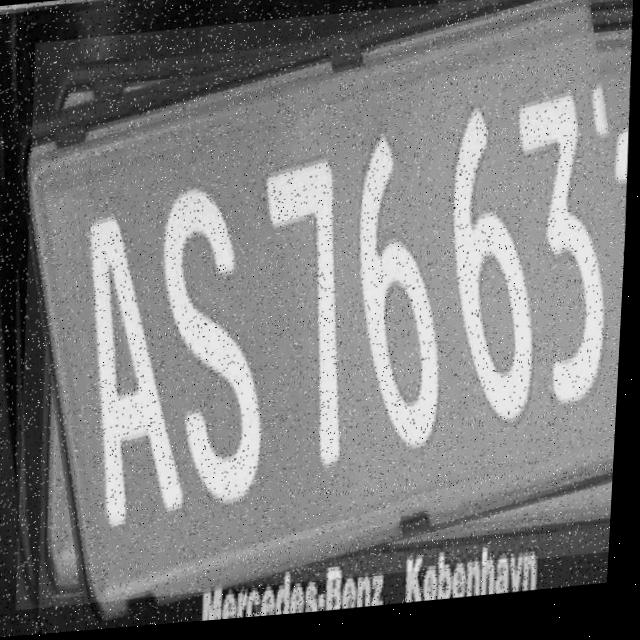LicensePlate: (12, 0, 639, 611)
